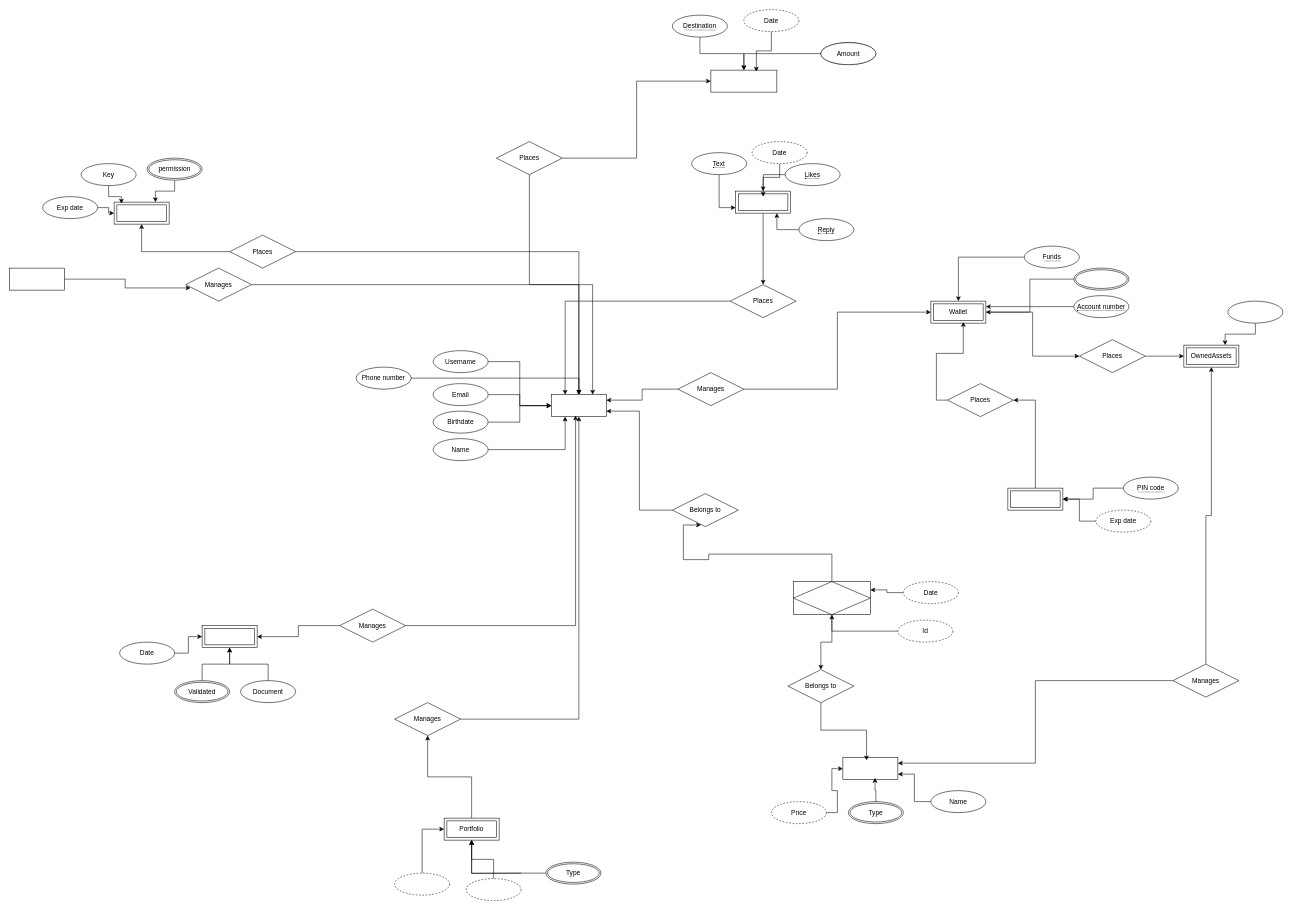
Image size: 1293x910. Some labels were removed from this diagram. The centre of each missing label's shape, as x and y in pixels:
"Address Document" goes at [229,636].
"API key" goes at [141,213].
"Asset" goes at [870,768].
"Card" goes at [1035,499].
"Coment" goes at [763,202].
"Currency" goes at [1101,279].
"Order" goes at [831,598].
"Person" goes at [37,279].
"Profit" goes at [422,884].
"Quantity" goes at [1255,312].
"Risk index" goes at [493,889].
"Transaction" goes at [743,81].
"User" goes at [578,405].
